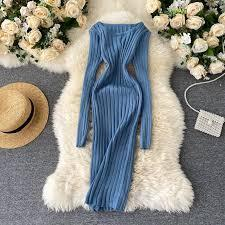dress: (74, 22, 156, 215)
